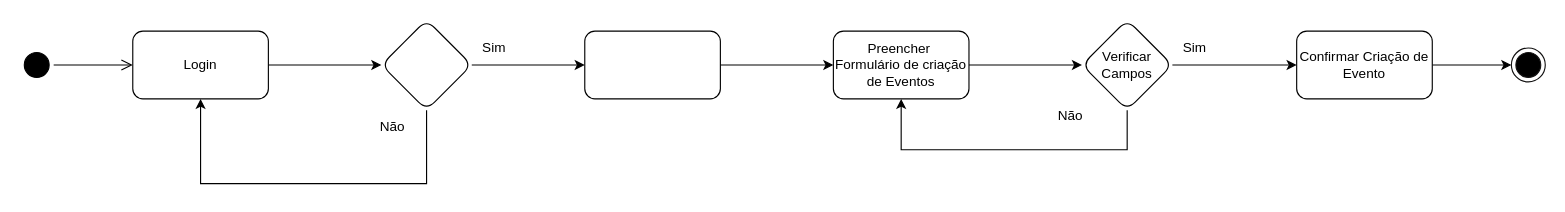
This 1565x212 diagram has some shape labels left out. Here are the shapes that lost their labels. From the top down, the centre of each, then its label:
At pixel 426 64: "Verificar credenciais".
At pixel 652 64: "Criar Evento".
